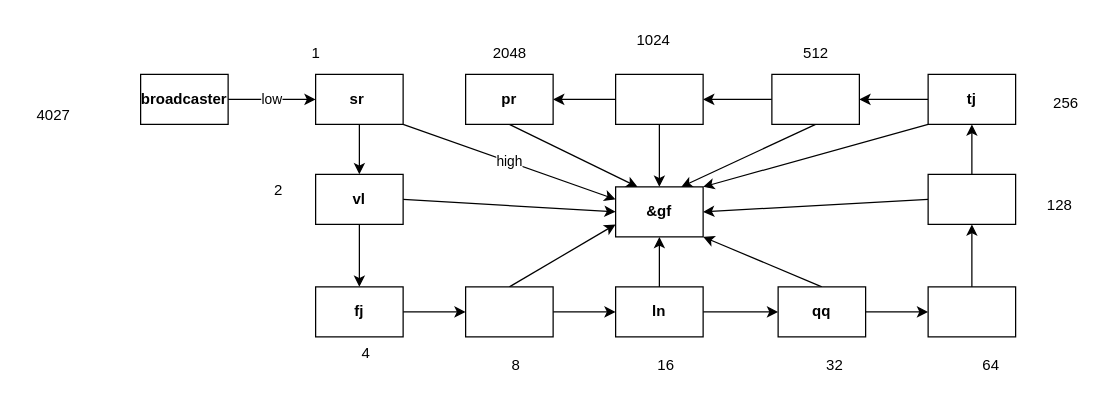
Image size: 1111x405. Some labels were removed from this diagram. The centre of each missing label's shape, as x and y in pixels:
"fn" belongs at (658,98).
"gm" belongs at (971,198).
"lc" belongs at (815,98).
"qm" belongs at (971,311).
"zd" belongs at (508,311).
